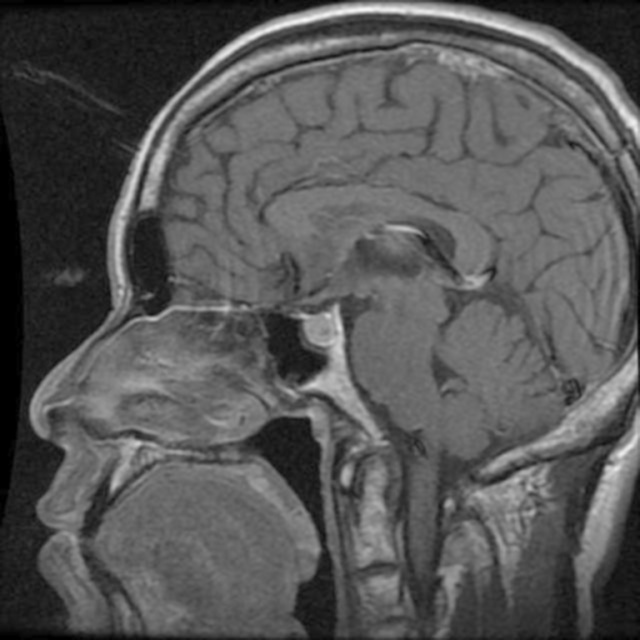no tumor: (302, 302, 362, 368)
